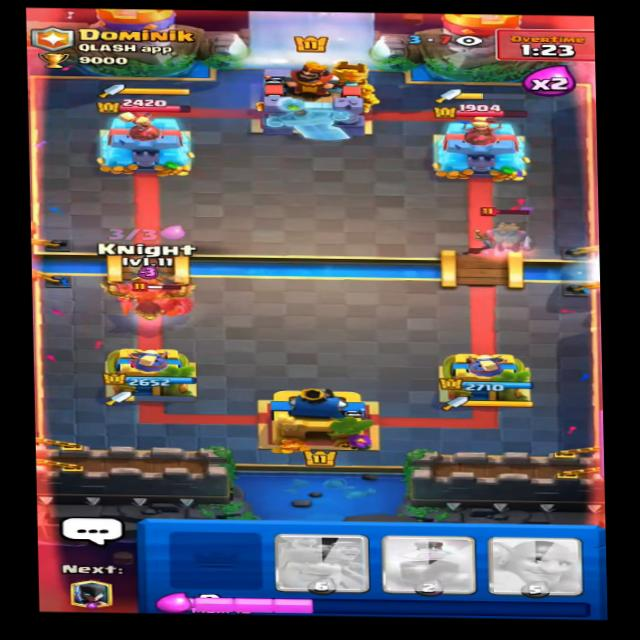pekka: (117, 274, 205, 323)
royal-ghost: (470, 206, 556, 260)
